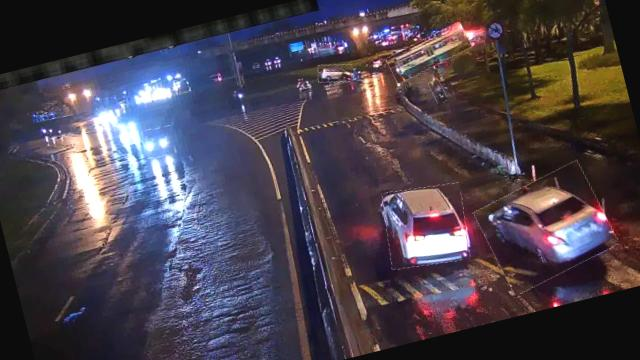Bike: (428, 78, 448, 105)
Bus: (383, 25, 474, 81)
Car: (473, 162, 620, 294), (376, 176, 476, 274), (141, 124, 177, 160), (316, 58, 356, 88)
